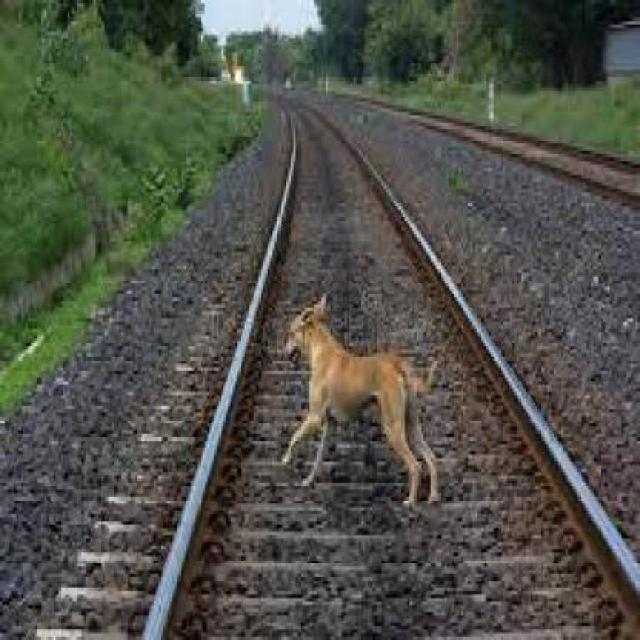danger: (277, 316, 440, 498)
rail: (35, 76, 639, 636)
